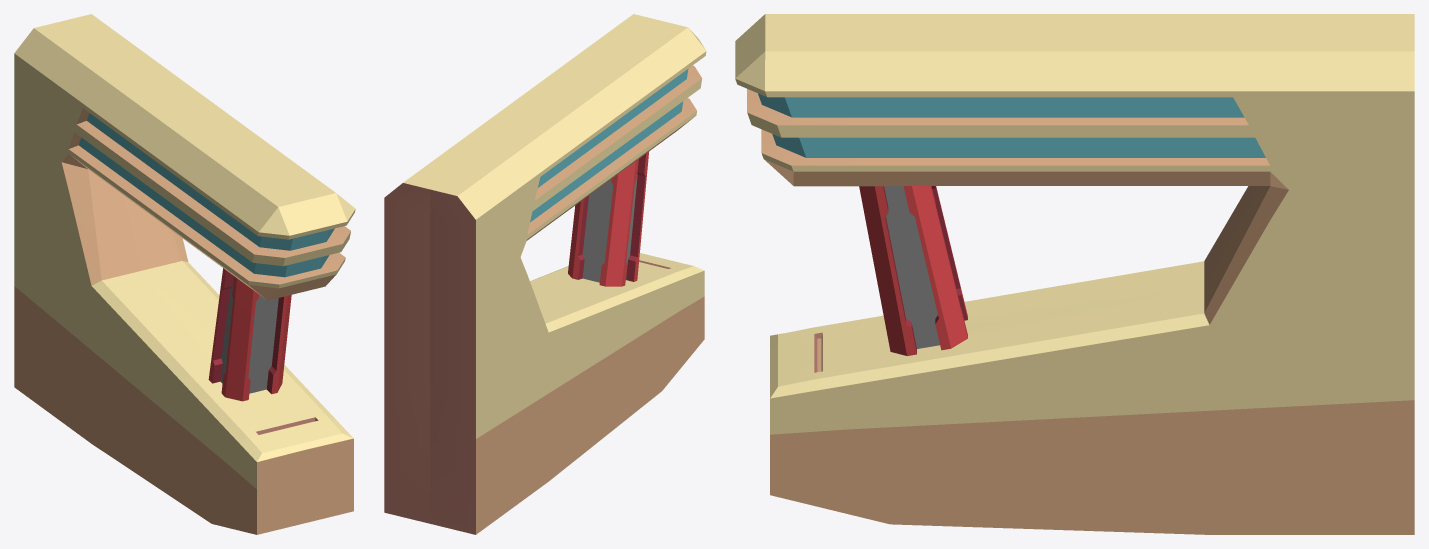
Rendered from Vip stalls.fbx.
The picture shows the model from 3 angles, left to right: view 1: azimuth 30°, elevation 25°; view 2: azimuth 150°, elevation 25°; view 3: azimuth 270°, elevation 25°; orthographic projection. The views are drawn at different scales.
Parts seen in each view (by area): view 1: Vip stalls; view 2: Vip stalls; view 3: Vip stalls.
Part boxes in pixels (bbox=[...]): Vip stalls: bbox=[14, 14, 355, 534]; Vip stalls: bbox=[384, 14, 706, 534]; Vip stalls: bbox=[735, 14, 1414, 534].
Bounding box in the file's own units: 2.5 × 8.74 × 11.43.
